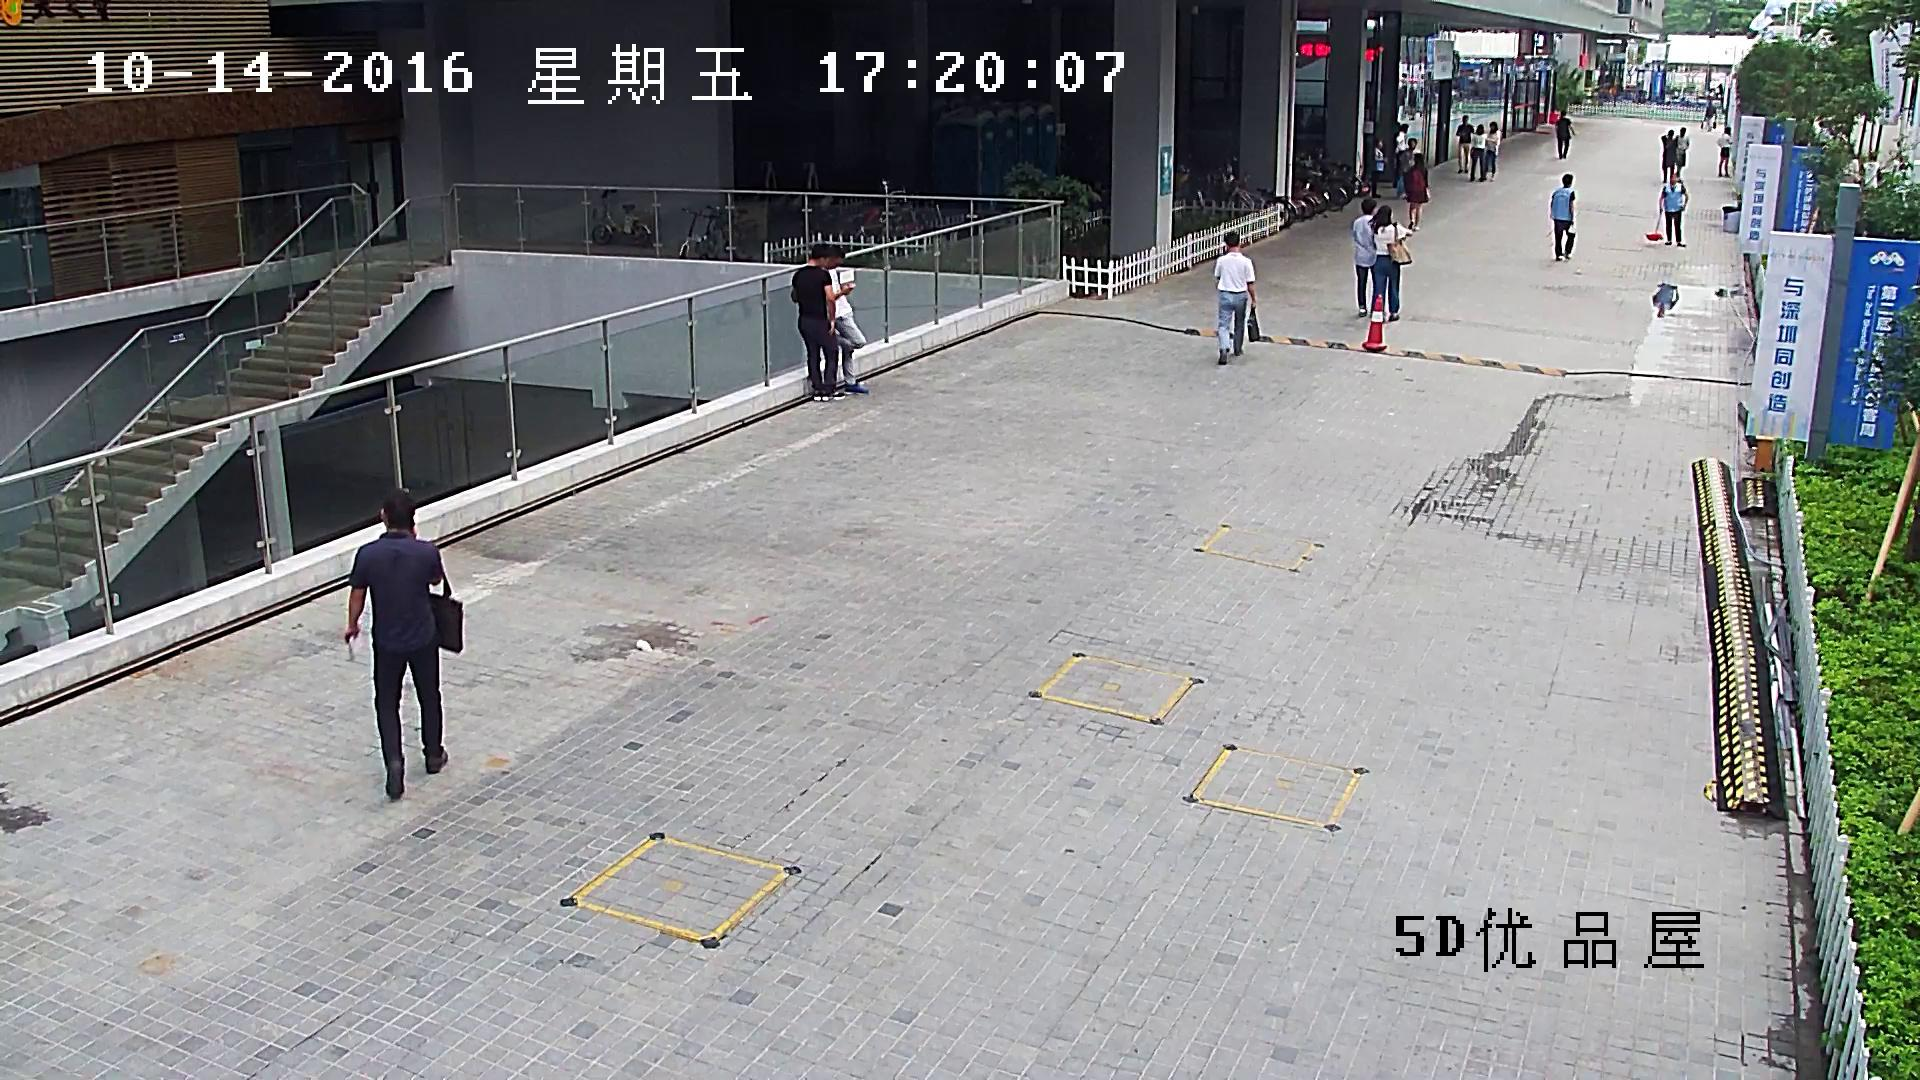person: (345, 488, 463, 796), (791, 243, 845, 400), (823, 244, 869, 393), (1214, 230, 1260, 364), (1367, 204, 1412, 321), (1645, 173, 1687, 246), (1350, 198, 1376, 316), (1548, 172, 1577, 260), (1659, 172, 1688, 247), (1403, 152, 1430, 231), (1397, 137, 1420, 193), (1455, 114, 1474, 172), (1469, 123, 1487, 181), (1393, 123, 1409, 188), (1555, 109, 1575, 159), (1371, 137, 1386, 197), (1485, 121, 1499, 181), (1716, 126, 1732, 178), (1661, 129, 1676, 183), (1676, 127, 1688, 174), (1701, 98, 1716, 131)
